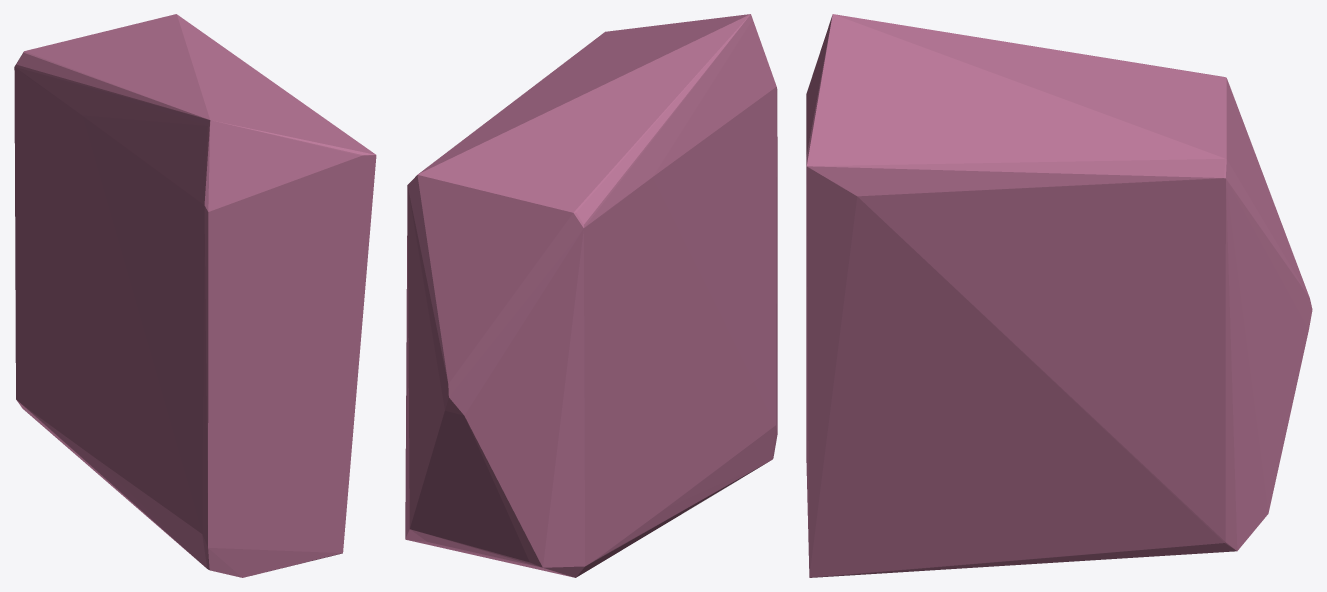
Rendered from equipment_mechanic_tool_cart_g01.glb.
3 renders of one model, left to right at view 1: azimuth 30°, elevation 25°; view 2: azimuth 150°, elevation 25°; view 3: azimuth 270°, elevation 25°, orthographic. The views are drawn at different scales.
Parts seen in each view (by area): view 1: geometry_0; view 2: geometry_0; view 3: geometry_0.
Part boxes in pixels (left/top/right/bottom): geometry_0: left=14, top=14, right=376, bottom=577; geometry_0: left=405, top=14, right=777, bottom=577; geometry_0: left=806, top=14, right=1312, bottom=577.
Bounding box in the file's own units: 0.1949 × 0.4795 × 0.4409.
